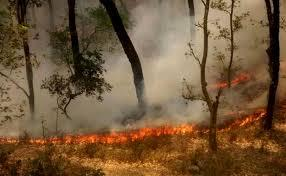fire: (0, 123, 209, 145), (217, 108, 266, 133), (206, 72, 253, 89)
